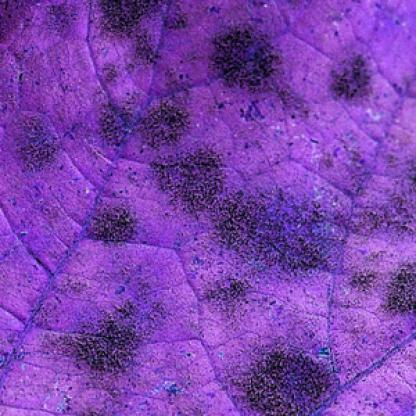Squash Powdery mildew leaf: (6, 6, 415, 398)
